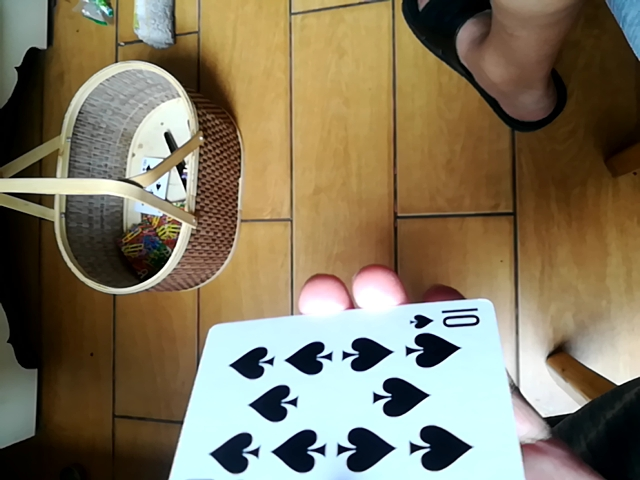ht 10: (166, 299, 513, 478)
